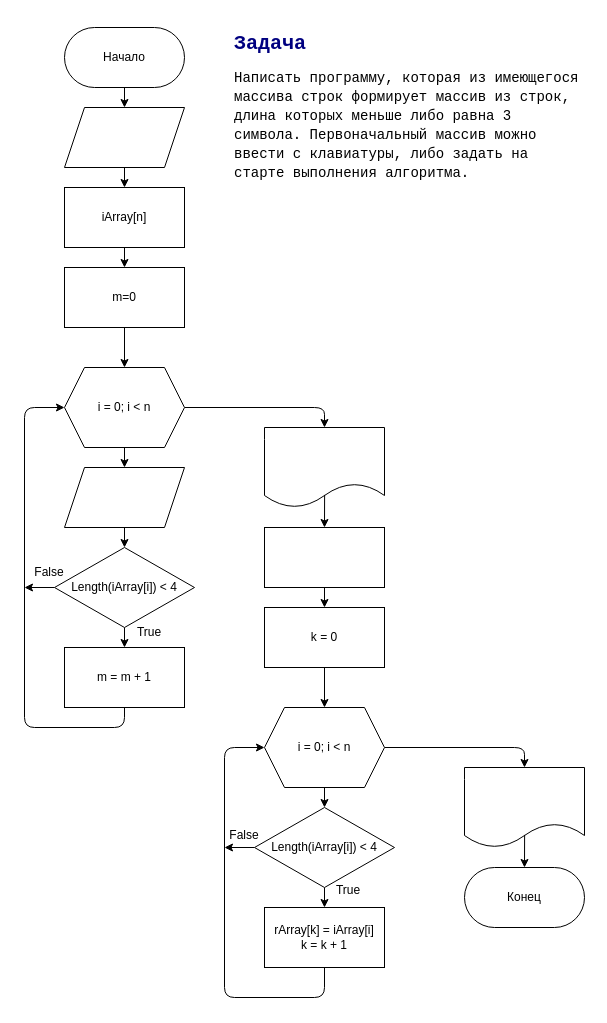
Image size: 607x1023. Some labels were removed from this diagram. The shapes that lost their labels are listed below. From the top down, each one's centre as x and y in pixels, then its label:
At [124,137]: "Введите n".
At [324,467]: "iArray".
At [124,497]: "iArray[i]".
At [324,557]: "rArray[m]".
At [524,807]: "rArray".
